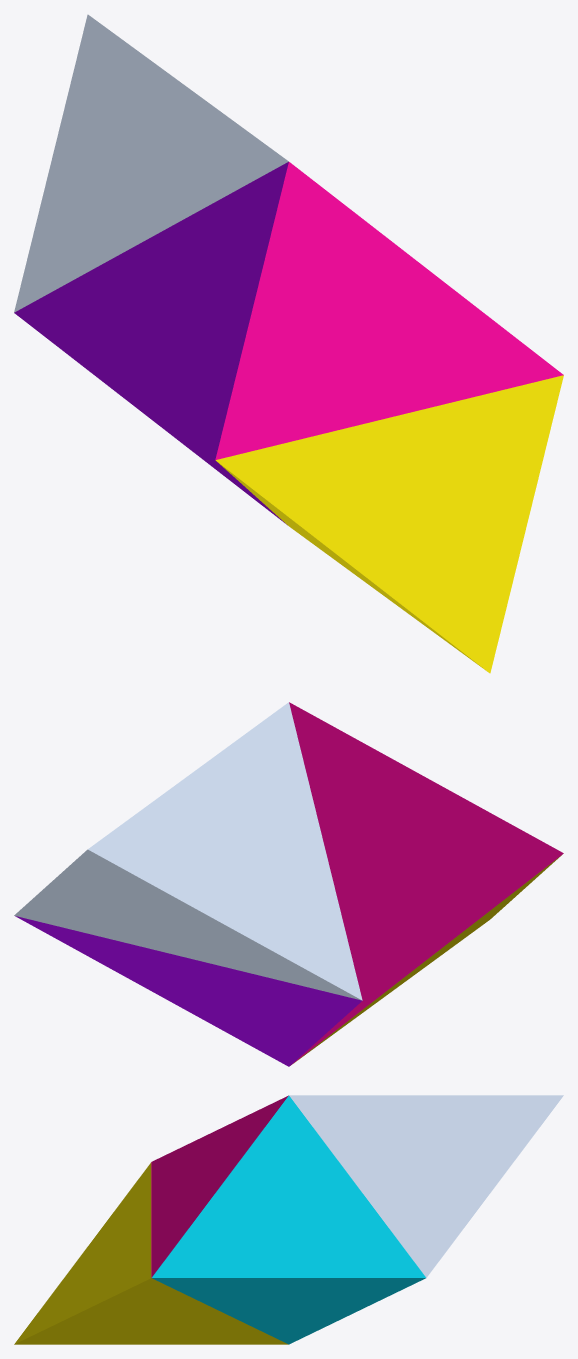
Rendered from TetragonalDisphenoidal_5.glb.
3 views of the same model, one above another, from view 1: azimuth 30°, elevation 25°; view 2: azimuth 150°, elevation 25°; view 3: azimuth 270°, elevation 25° (orthographic). The views are drawn at different scales.
Size of the model in its own units: 4 by 4 by 8.
